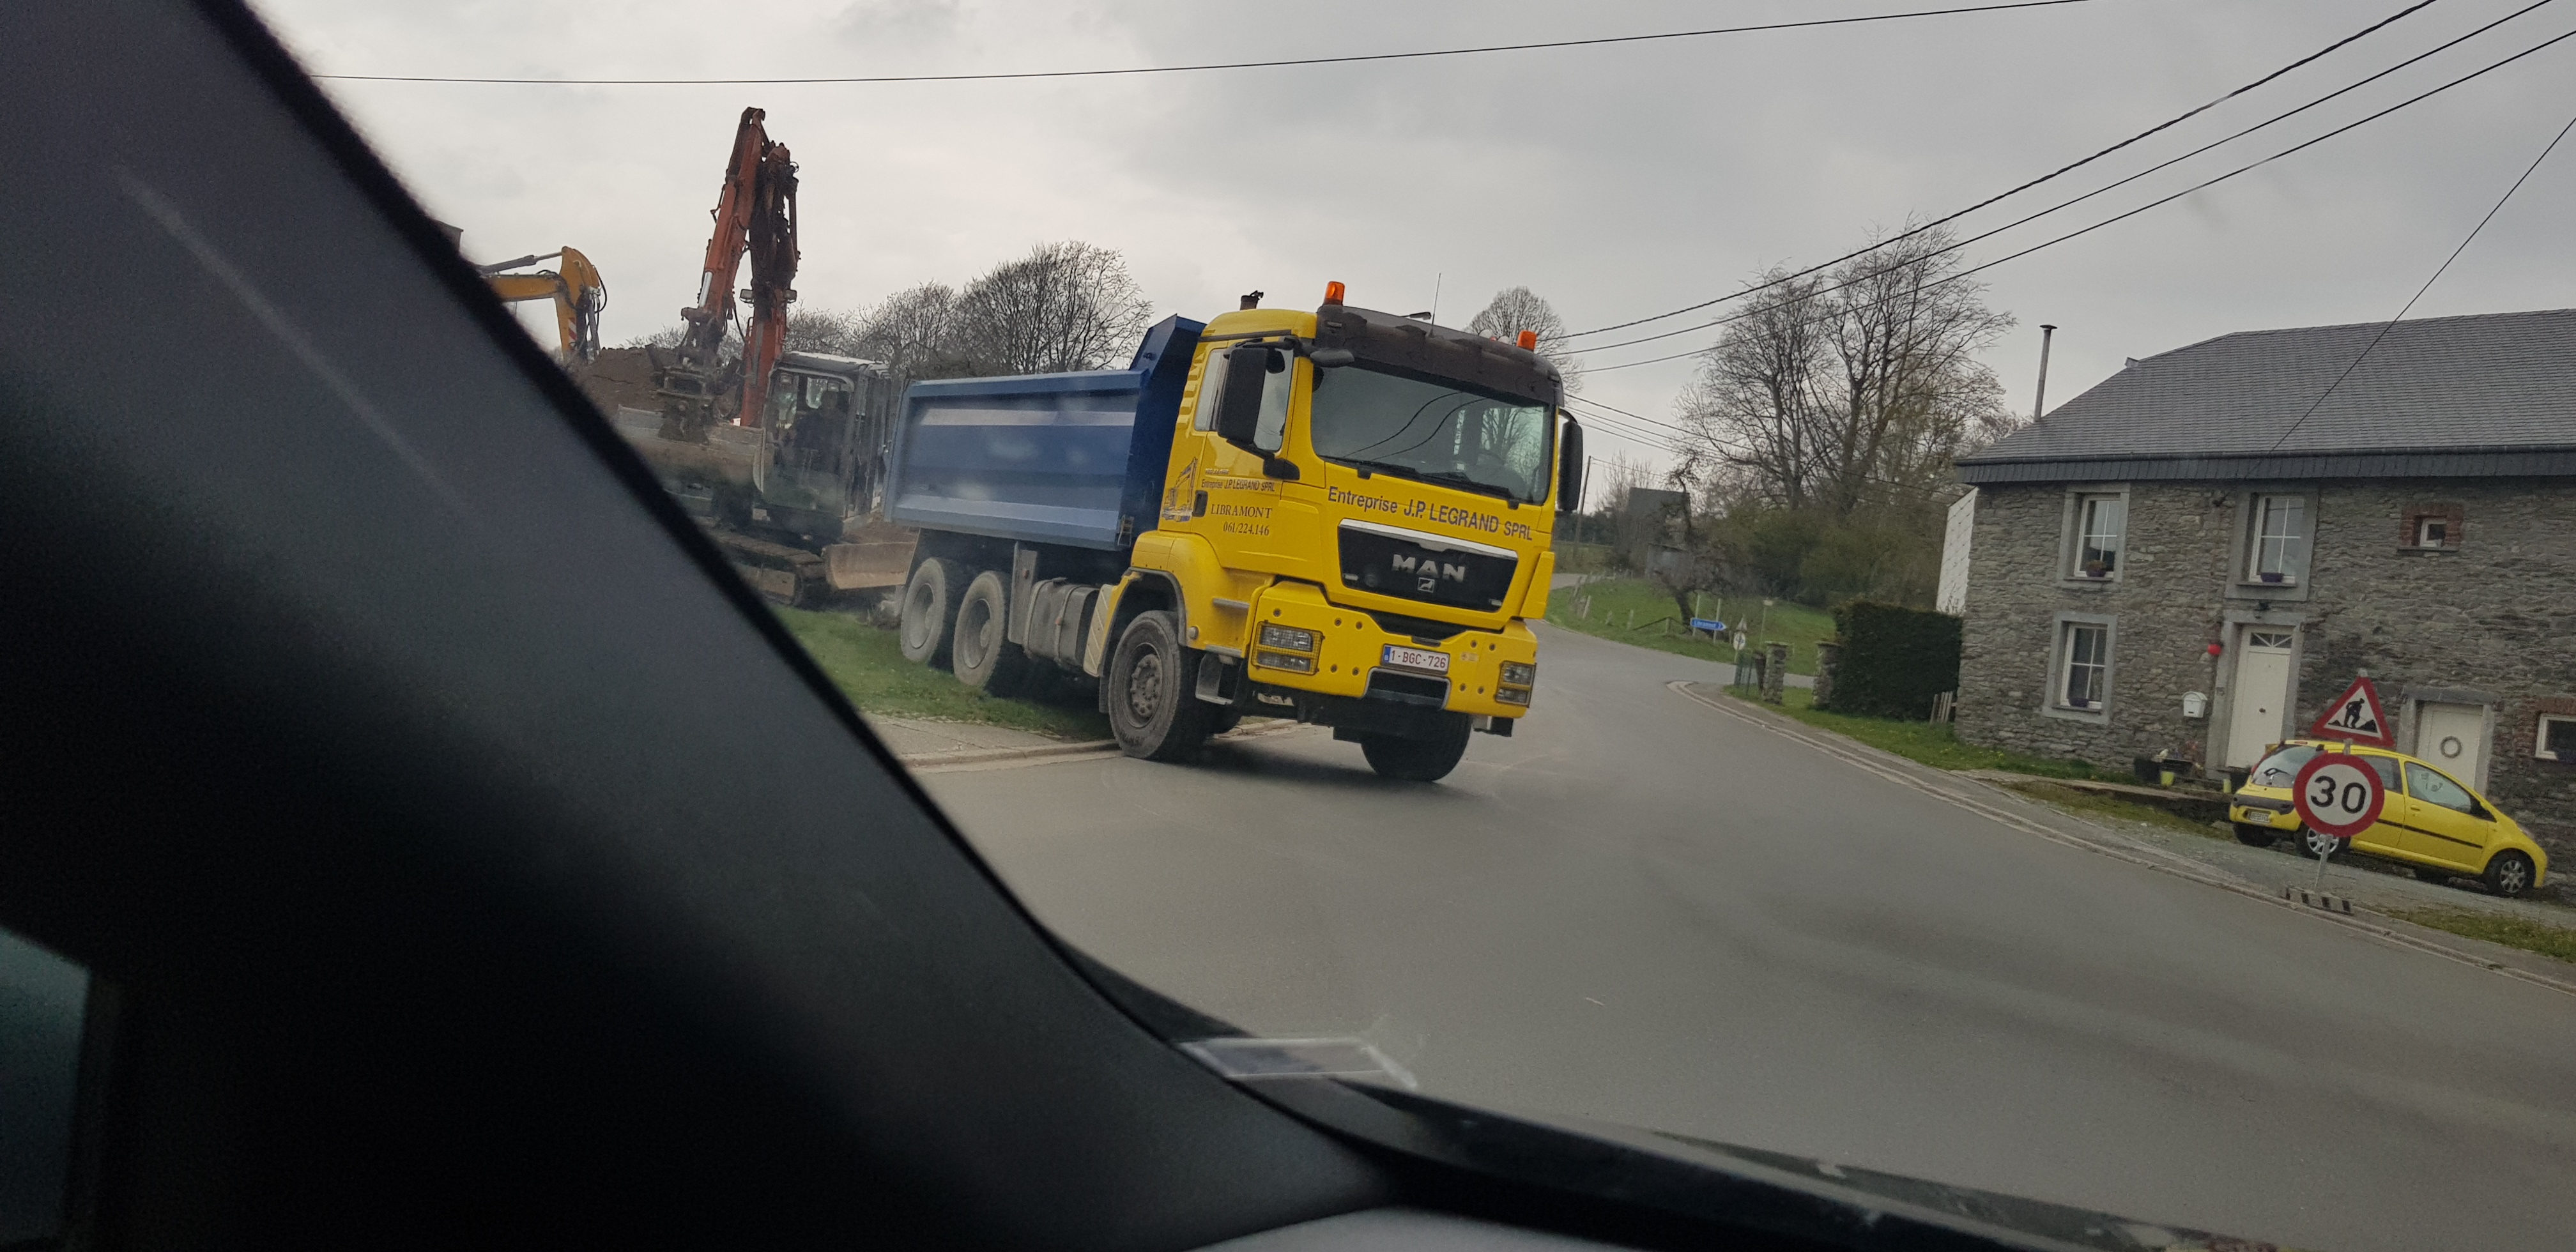licenceplate: (1381, 644, 1451, 673)
